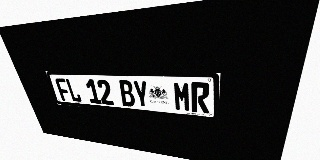1: (84, 79, 102, 104)
2: (96, 79, 114, 105)
B: (118, 80, 136, 107)
F: (54, 78, 72, 101)
L: (65, 78, 82, 102)
M: (173, 81, 191, 112)
R: (191, 82, 210, 113)
Y: (132, 80, 150, 108)
